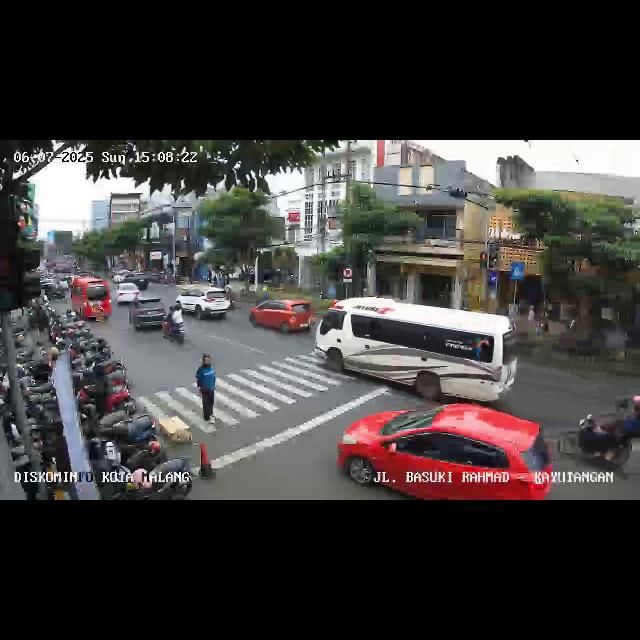car: (314, 298, 520, 404), (339, 402, 555, 500), (248, 297, 314, 339), (67, 275, 111, 323), (176, 286, 232, 322), (128, 296, 170, 332), (40, 276, 68, 300), (116, 282, 140, 302), (128, 274, 152, 292)
motorcycle: (556, 400, 640, 472), (164, 304, 188, 346)
person: (196, 354, 218, 428)
